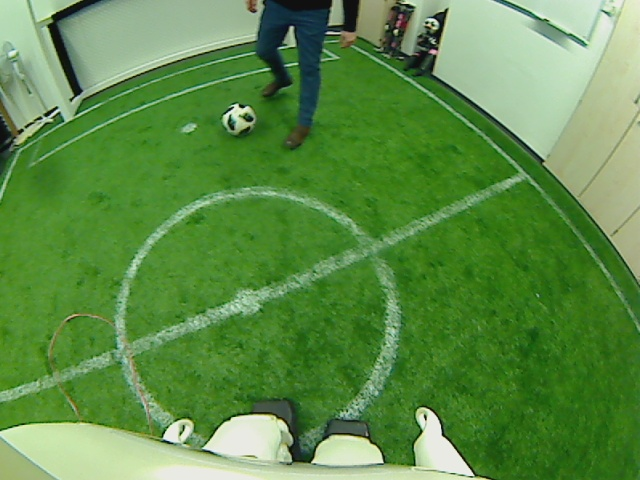ball: (219, 102, 259, 137)
